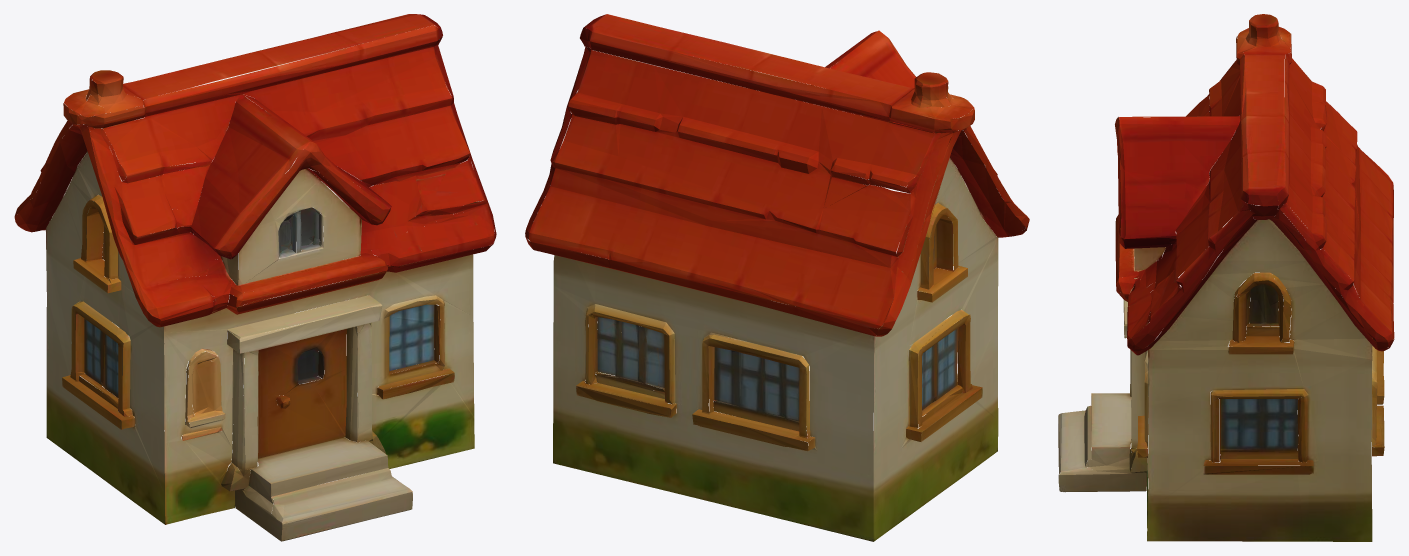
File: red_roof_house.glb
The picture shows the model from 3 angles, left to right: view 1: azimuth 30°, elevation 25°; view 2: azimuth 150°, elevation 25°; view 3: azimuth 270°, elevation 25°; orthographic projection. The views are drawn at different scales.
Visible parts, largest first — view 1: geometry_0; view 2: geometry_0; view 3: geometry_0.
Part boxes in pixels (left/top/right/bottom): geometry_0: left=14, top=14, right=496, bottom=541; geometry_0: left=525, top=14, right=1029, bottom=541; geometry_0: left=1058, top=14, right=1394, bottom=541.
Size of the model in its own units: 0.9585 by 0.999 by 0.7979.
1 material, 1 textured.
